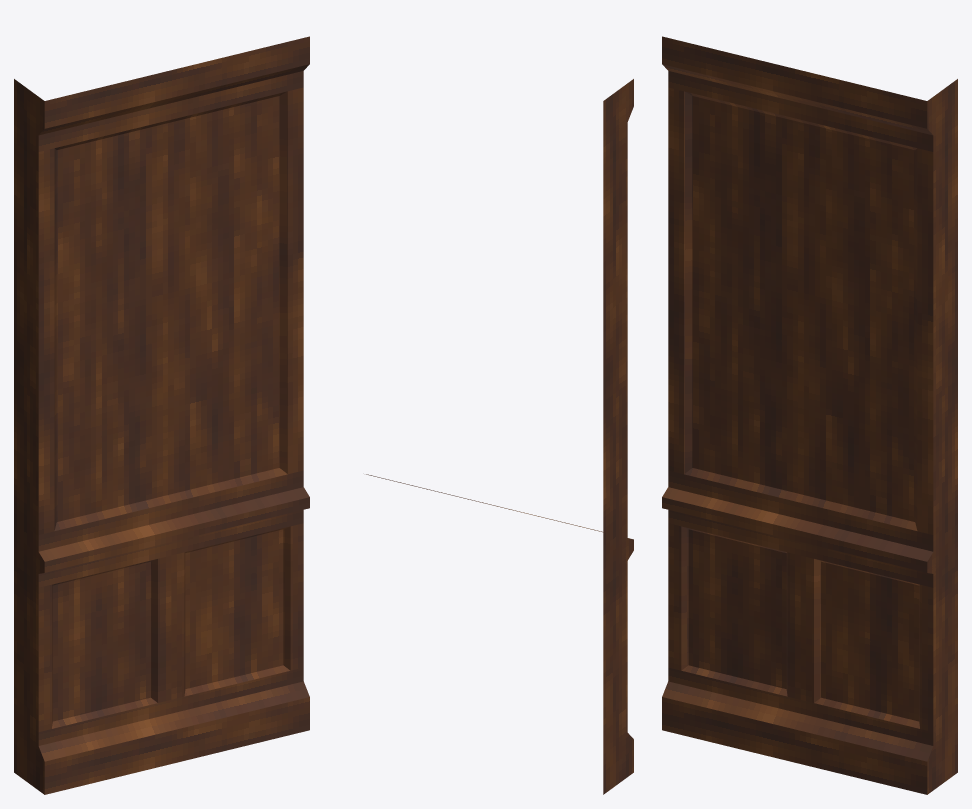
The model's file is wood_panel_wall.gltf.
3 renders of one model, left to right at view 1: azimuth 30°, elevation 25°; view 2: azimuth 150°, elevation 25°; view 3: azimuth 330°, elevation 25°, orthographic.
Visible parts, largest first — view 1: WoodPanelWall; view 2: WoodPanelWall; view 3: WoodPanelWall.
Part boxes in pixels (x1,y1,x2,y2): WoodPanelWall: (14,36,309,794); WoodPanelWall: (366,79,633,794); WoodPanelWall: (662,36,957,794).
Bounding box in the file's own units: 1 × 2.5 × 0.2.
Materials: 1 (1 with a texture image).
